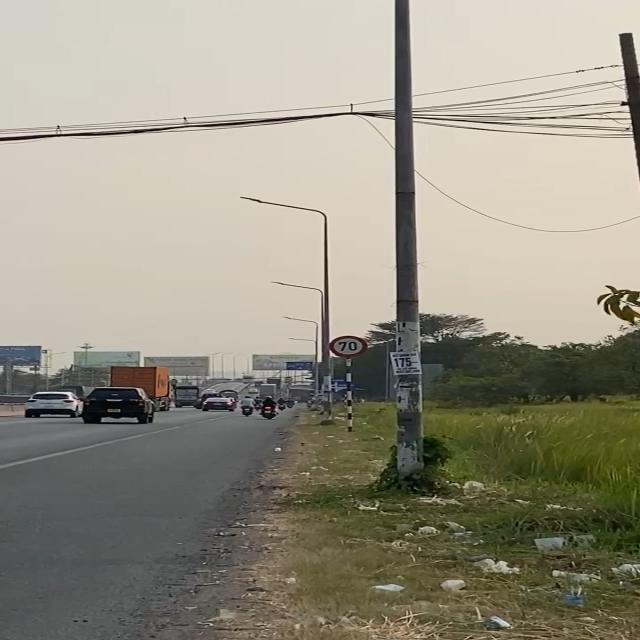127-toc-do-toi-da-70: (328, 335, 368, 358)
